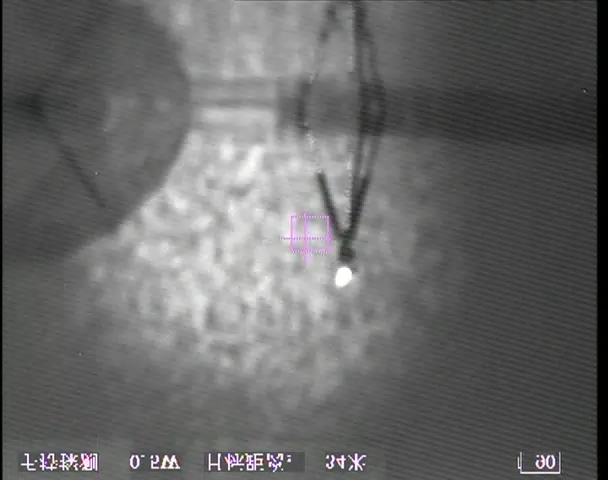my: (333, 264, 354, 289)
